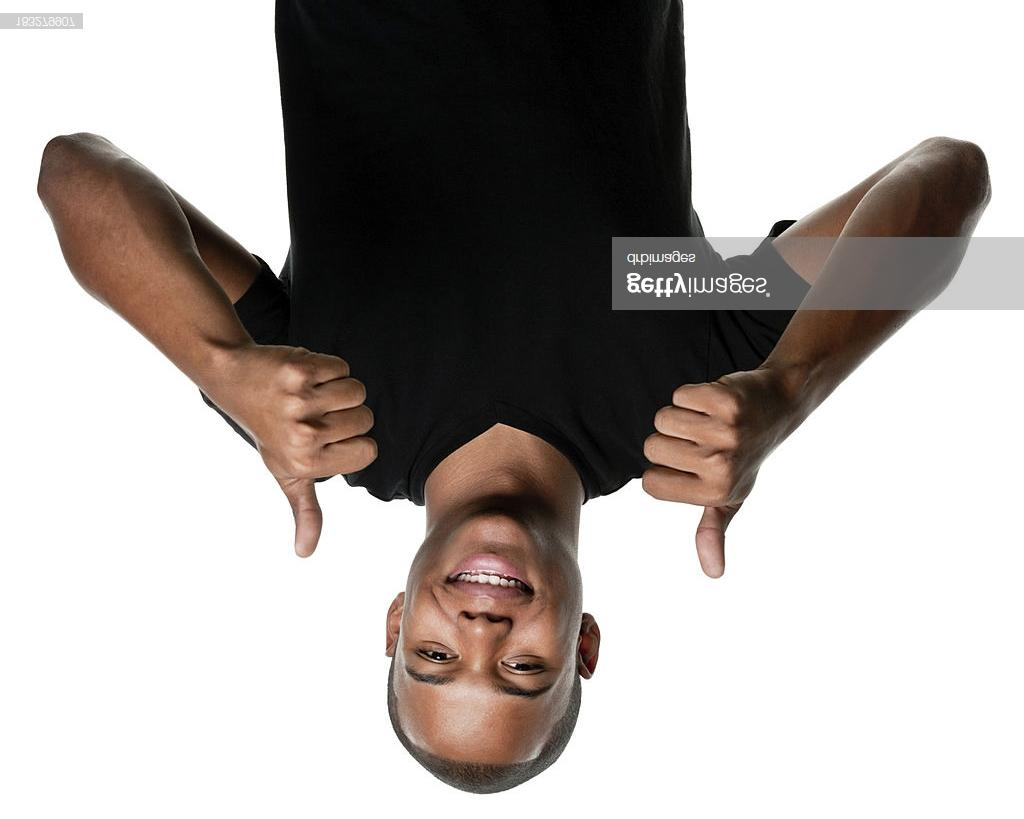thumbsdown: (272, 351, 382, 558), (640, 381, 746, 580)
